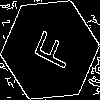F: (25, 25, 75, 72)
